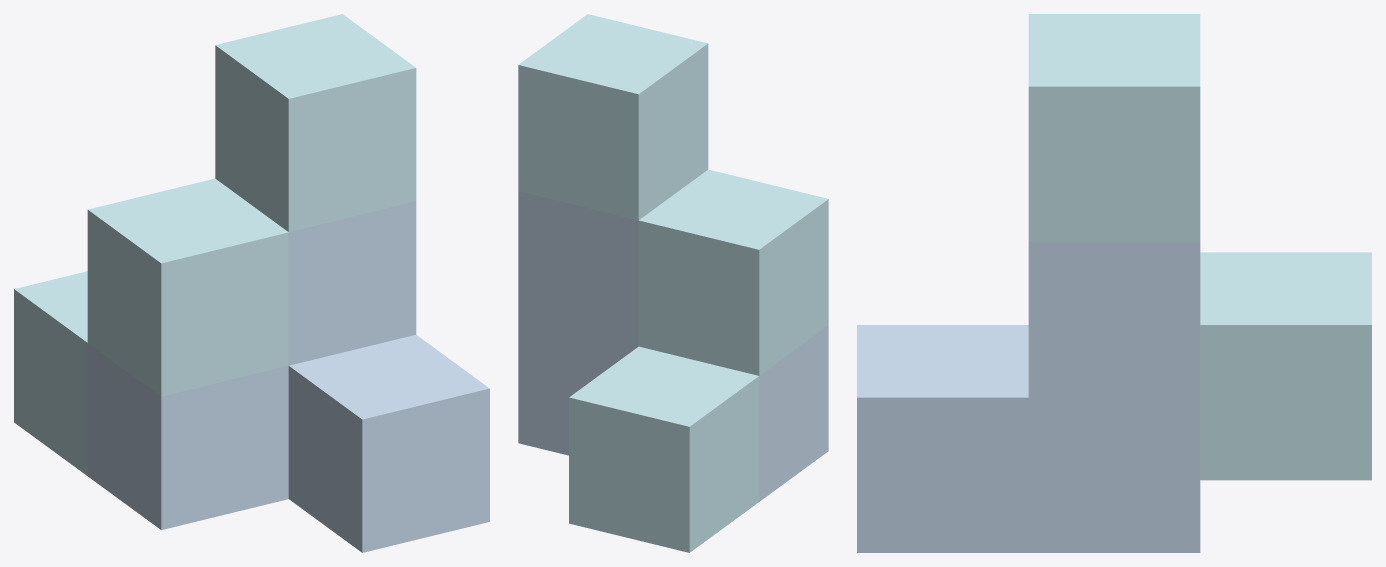
Rendered from tile-31.obj.
The picture shows the model from 3 angles, left to right: view 1: azimuth 30°, elevation 25°; view 2: azimuth 150°, elevation 25°; view 3: azimuth 270°, elevation 25°; orthographic projection. The views are drawn at different scales.
Size of the model in its own units: 0.2 by 0.3 by 0.3.
